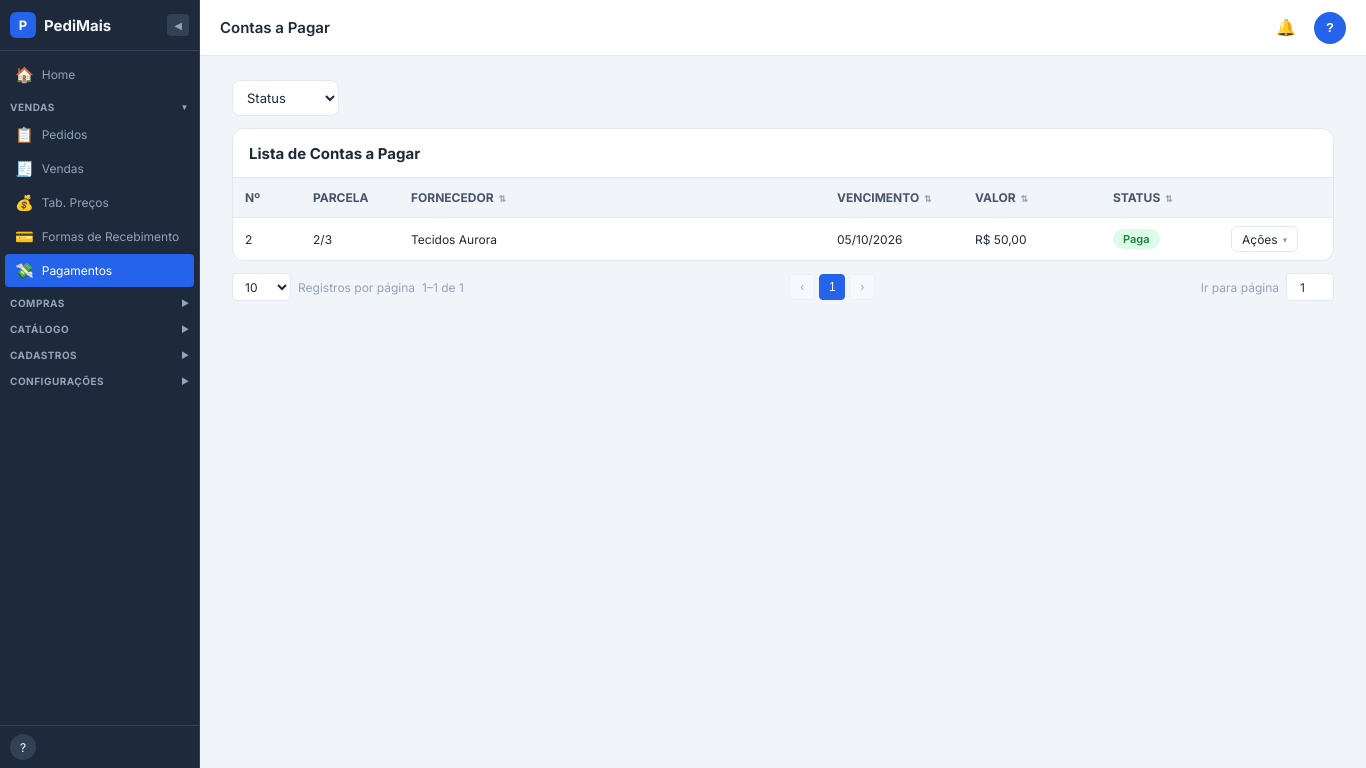
Test: AccountsPayableListView › hides the baixa action for an already-paid entry and the reversal action for an open one
The width and height of the screenshot is (1366, 768).
Click the element with test id "btn-acoes-ap2" at [1265, 239], box [1231,226,1298,252]
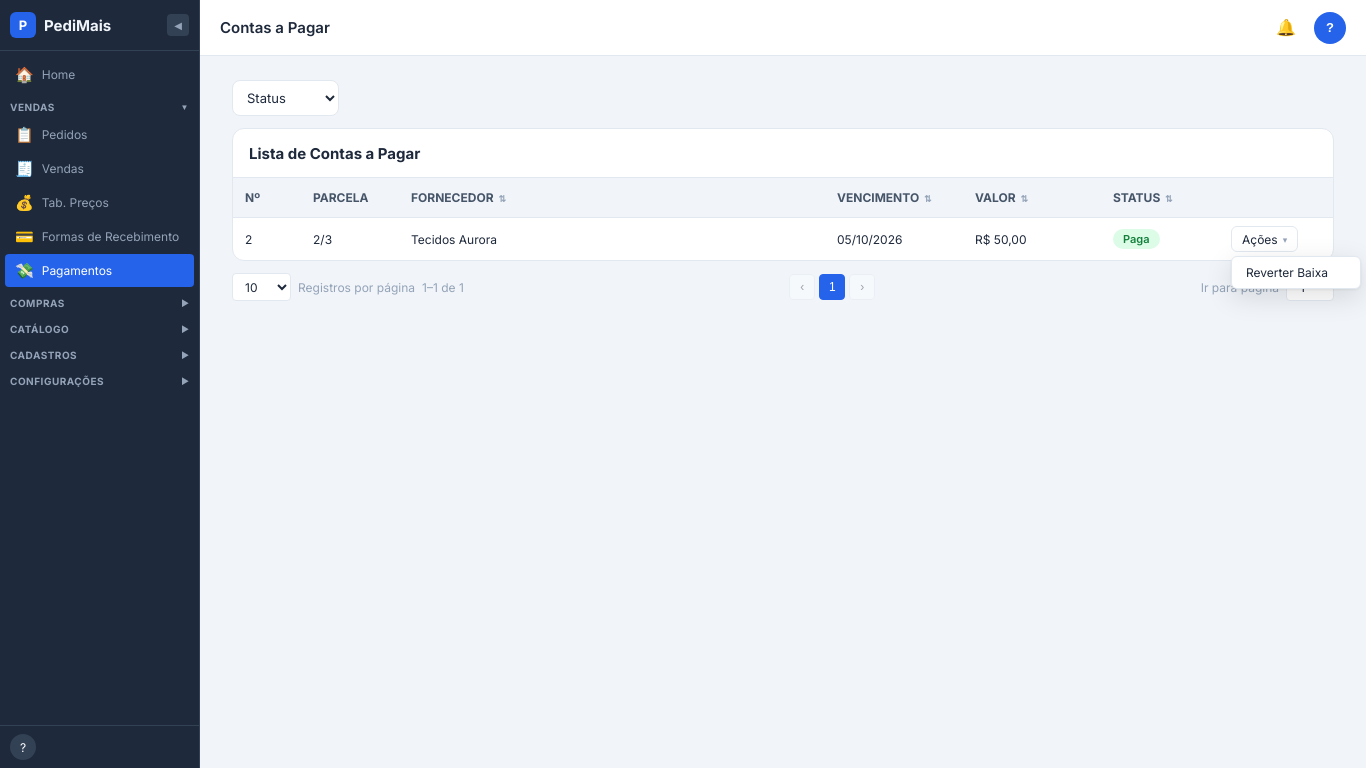
Expected: the text "Reverter Baixa" is shown, [1246,265,1328,280]
